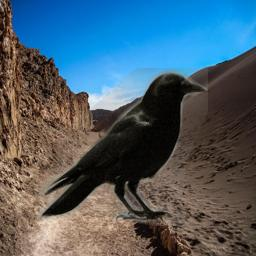Crow: (35, 68, 208, 226)
